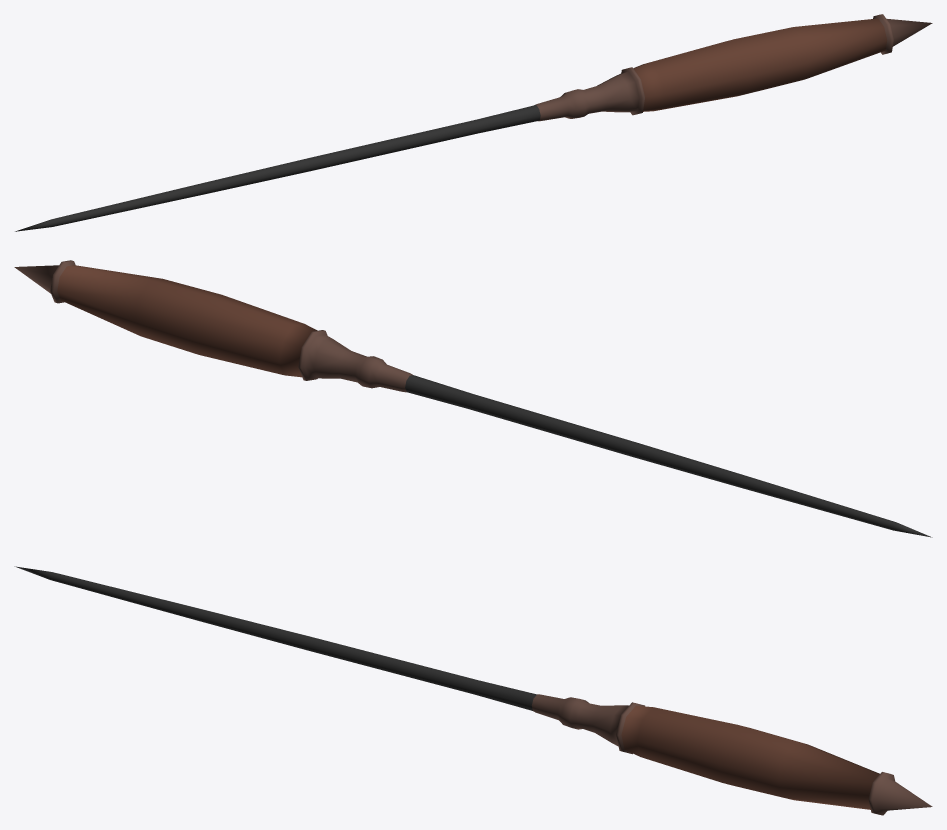
Rendered from Wand.fbx.
3 renders of one model, top to bottom at view 1: azimuth 30°, elevation 25°; view 2: azimuth 150°, elevation 25°; view 3: azimuth 330°, elevation 25°, orthographic. The views are drawn at different scales.
Parts seen in each view (by area): view 1: Wand; view 2: Wand; view 3: Wand.
Boxes of the visible parts, box(x1,y1,x2,y2) form: Wand: box(15, 14, 932, 231); Wand: box(14, 260, 932, 537); Wand: box(14, 566, 932, 815).
Bounding box in the file's own units: 442 × 26.06 × 35.19.
Materials: 1 (1 with a texture image).
